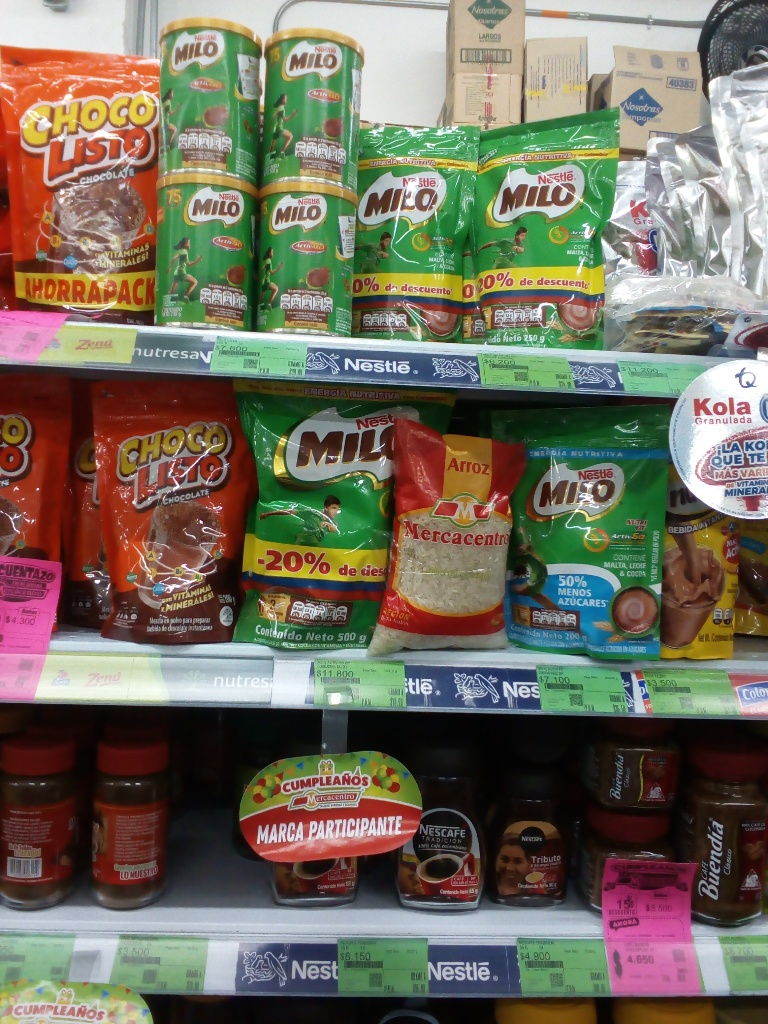COL0170103DYP20000: (84, 380, 246, 641)
COL0170103DYP40000: (6, 42, 156, 327)
COL0170203DYP25000: (361, 124, 473, 340)
COL0170203DYP50000: (237, 383, 444, 653)
COL0170203LAT20000: (159, 24, 253, 181)
COL0170205DYP20000: (489, 391, 662, 654)
